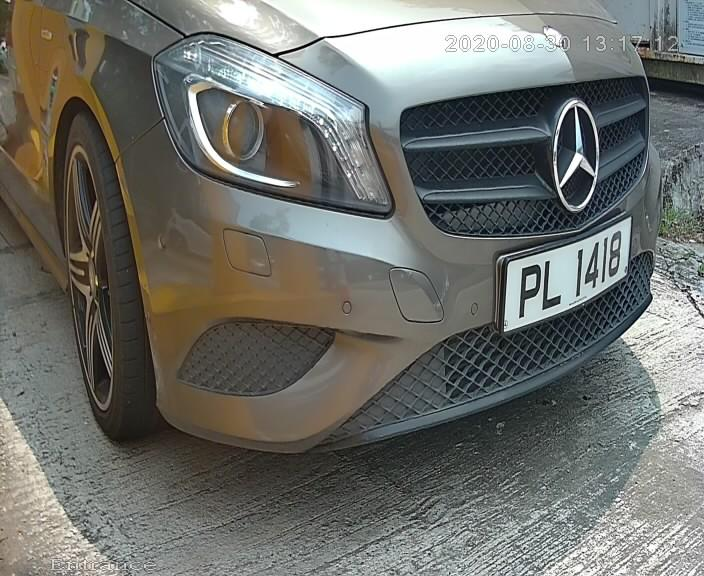License Plate: (491, 217, 632, 335)
